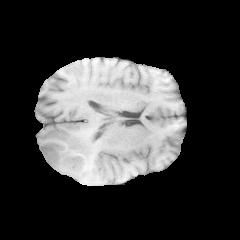glioma: (40, 127, 108, 177)
